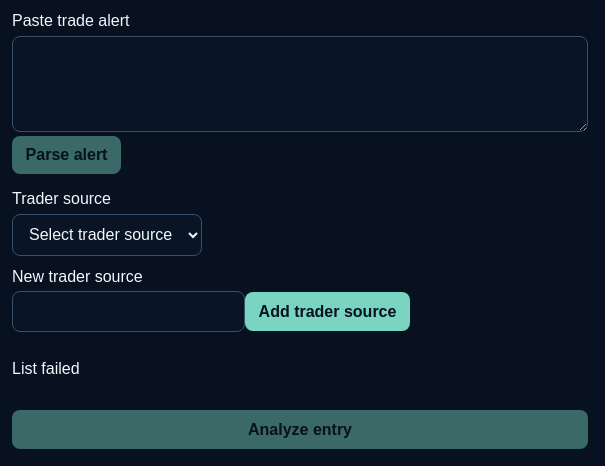
AlertPasteForm › shows trader repository errors visibly
Check: the message reads "List failed", box 12,360 -> 80,377
Step 1. Type "Private room" into the field labelled "New trader source" → (128, 312), box 12,291 -> 245,332
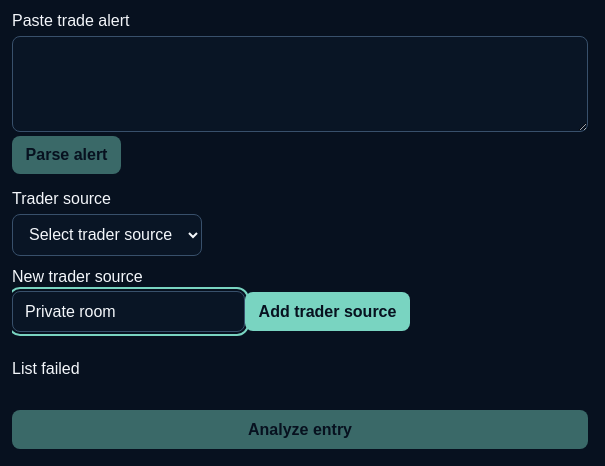
Step 2. Click the button "Add trader source" → (328, 312), box 245,292 -> 410,331
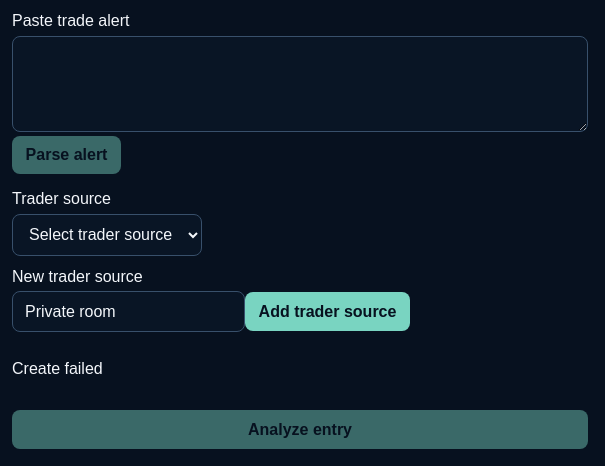
Check: the message reads "Create failed", box 12,360 -> 103,377
